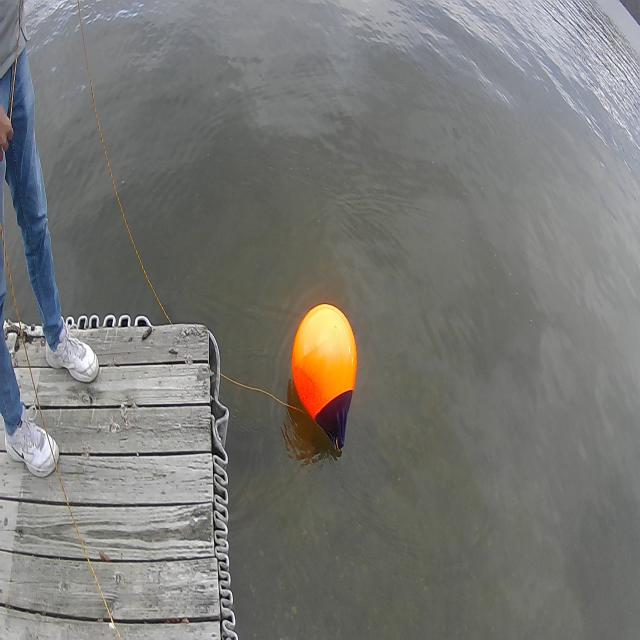Buoy: (287, 294, 363, 461)
